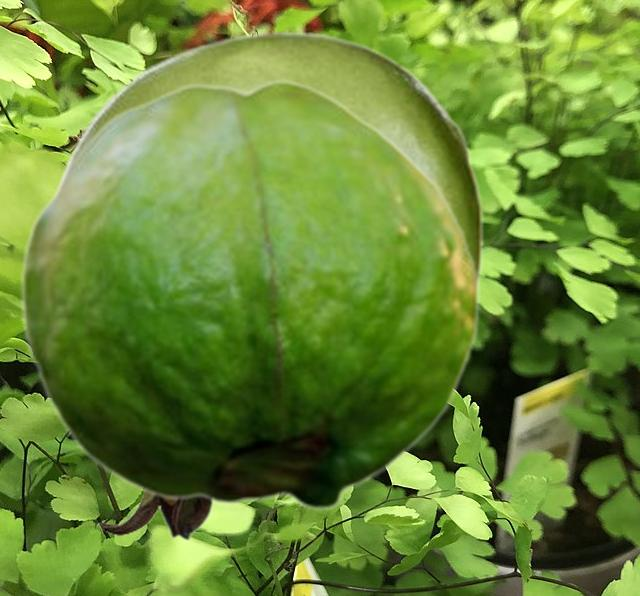guava: (20, 78, 479, 511), (51, 30, 484, 296), (94, 492, 216, 540)
